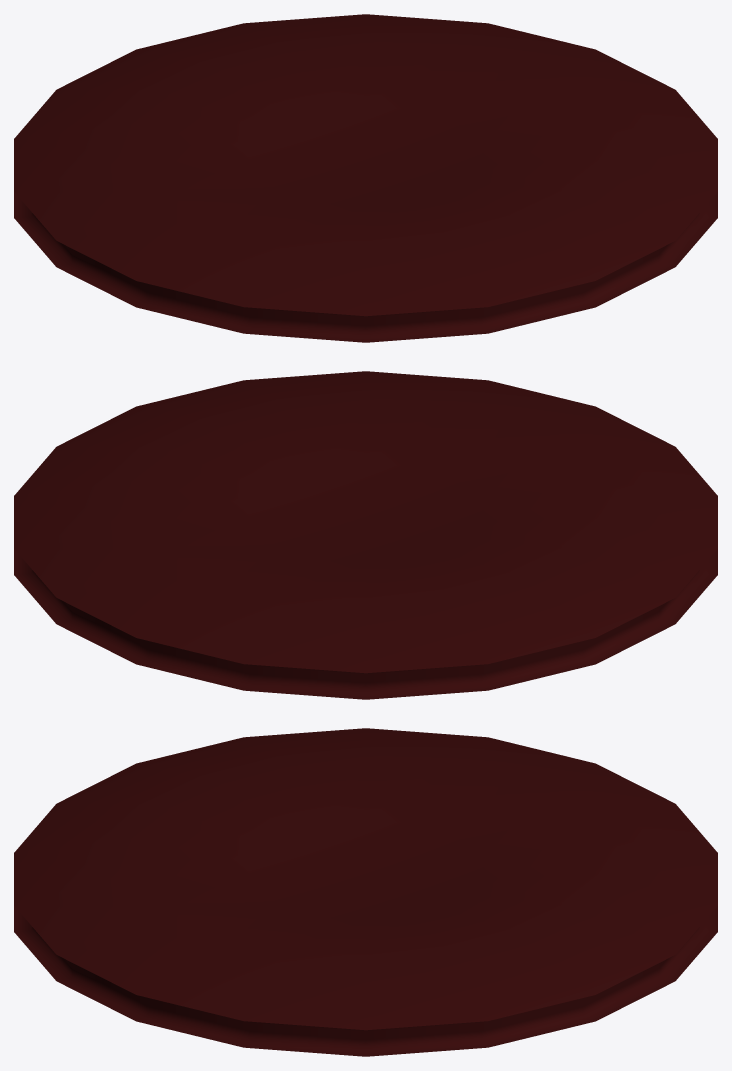
The model's file is ufo.FBX.
The picture shows the model from 3 angles, top to bottom: view 1: azimuth 30°, elevation 25°; view 2: azimuth 150°, elevation 25°; view 3: azimuth 270°, elevation 25°; orthographic projection.
Parts seen in each view (by area): view 1: Cylinder001; view 2: Cylinder001; view 3: Cylinder001.
Boxes of the visible parts, bbox=[...] form: Cylinder001: bbox=[14, 14, 717, 342]; Cylinder001: bbox=[14, 371, 717, 699]; Cylinder001: bbox=[14, 728, 717, 1056].
Size of the model in its own units: 22 by 2.5 by 21.67.
